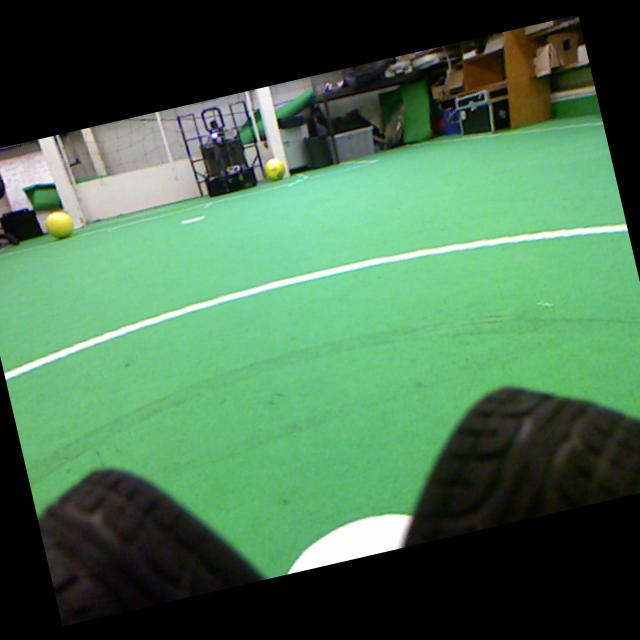ball: (45, 211, 73, 238), (265, 157, 285, 180)
goal: (38, 136, 84, 229), (257, 86, 290, 177)
robot: (200, 106, 257, 196)
